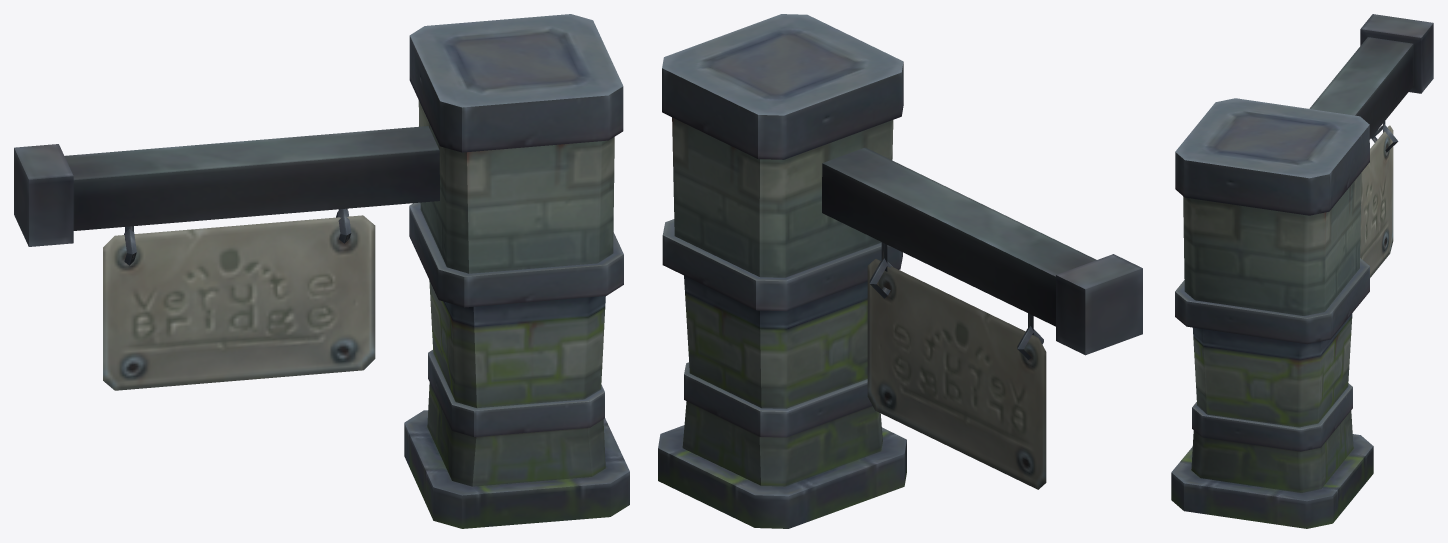
File: scene_malujiakuangdao_ludeng03.FBX
3 renders of one model, left to right at view 1: azimuth 30°, elevation 25°; view 2: azimuth 150°, elevation 25°; view 3: azimuth 270°, elevation 25°, orthographic. The views are drawn at different scales.
Parts seen in each view (by area): view 1: scene_malujiakuangdao_ludeng03; view 2: scene_malujiakuangdao_ludeng03; view 3: scene_malujiakuangdao_ludeng03.
Boxes of the visible parts, x1,y1,x2,y2 form: scene_malujiakuangdao_ludeng03: (14,14,629,528); scene_malujiakuangdao_ludeng03: (658,14,1142,528); scene_malujiakuangdao_ludeng03: (1171,14,1433,528).
Size of the model in its own units: 265 by 200 by 137.
